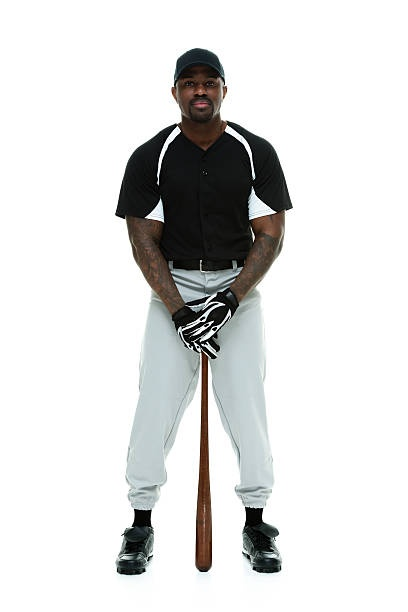bita: (189, 323, 222, 577)
